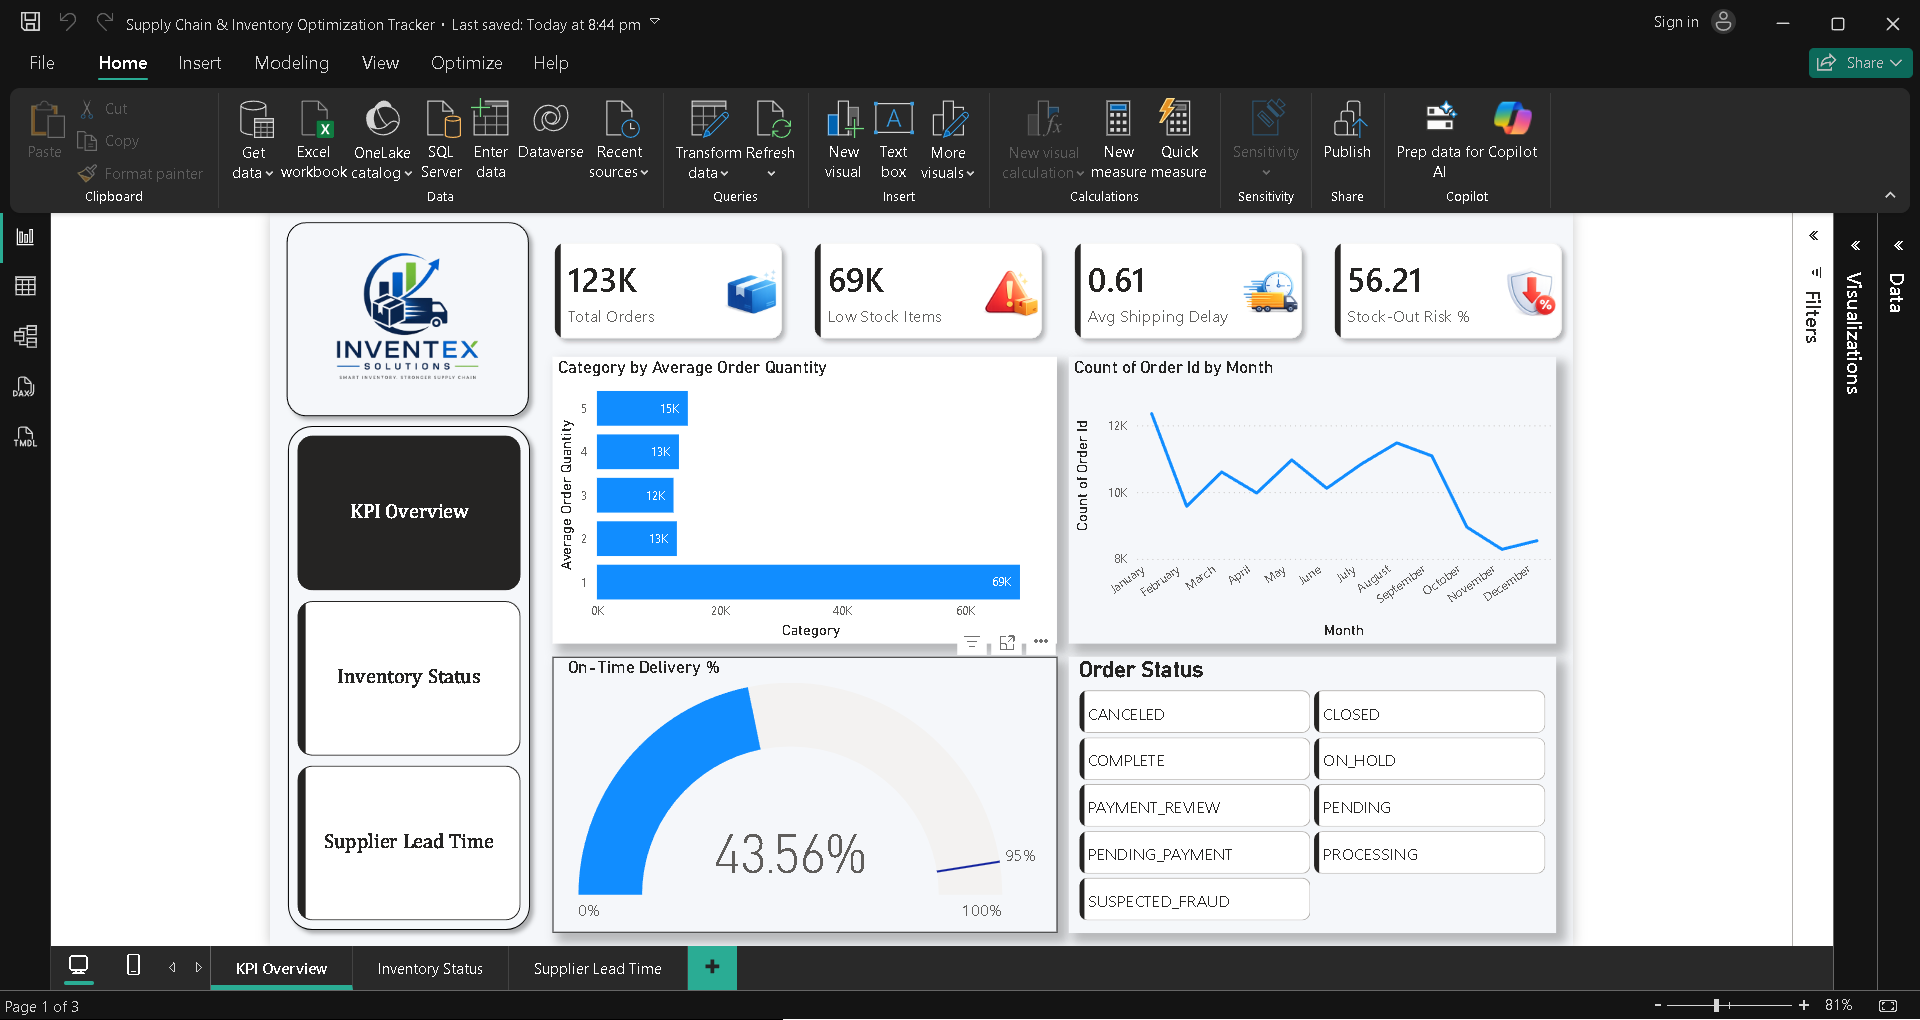

Layout of this report page (visuals, bound fields, positions):
{"tool":"powerbi","page":{"name":"KPI Overview","canvas":[1280,720],"ordinal":0},"visuals":[{"type":"cardVisual","fields":{"Data":["supply_chain_db supply_chain_data.Total Orders","supply_chain_db supply_chain_data.Low Stock Items","supply_chain_db supply_chain_data.Avg Shipping Delay","supply_chain_db supply_chain_data.Stock-Out Risk %"]},"box":[262.9,12.9,1017.1,128.6],"z":0},{"type":"barChart","fields":{"Y":["CountNonNull(supply_chain_db supply_chain_data.Category Name)"],"Category":["supply_chain_db supply_chain_data.Order Item Quantity"]},"box":[277.5,141.2,495,281.2],"z":1000},{"type":"shape","box":[8.6,200,255.7,512.9],"z":2000},{"type":"pageNavigator","box":[27,219,219,476],"z":3000},{"type":"shape","box":[7.1,0,255.7,208.6],"z":4000},{"type":"image","box":[23.3,16.7,222.7,174],"z":5000},{"type":"lineChart","fields":{"Category":["supply_chain_db supply_chain_data.order date (DateOrders).Variation.Date Hierarchy.Month"],"Y":["CountNonNull(supply_chain_db supply_chain_data.Order Id)"]},"box":[784.3,141.4,478.6,281.4],"z":6000},{"type":"gauge","fields":{"Y":["supply_chain_db supply_chain_data.On-Time Delivery %"]},"box":[277.5,435,495,271.2],"z":7000},{"type":"advancedSlicerVisual","fields":{"Values":["supply_chain_db supply_chain_data.Order Status"]},"box":[783.8,435,478.8,271.2],"z":8000}]}

Visuals, with their boxes on the page's 1280x720 design canvas (x1, y1, x2, y2). These are canvas units, not pixel positions in the 1920x1020 screenshot, which may show the page scaled, cropped or inside an application window:
cardVisual - supply_chain_db supply_chain_data.Total Orders x supply_chain_db supply_chain_data.Low Stock Items: rect(263, 13, 1280, 142)
barChart - CountNonNull(supply_chain_db supply_chain_data.Category Name) x supply_chain_db supply_chain_data.Order Item Quantity: rect(278, 141, 772, 422)
shape: rect(9, 200, 264, 713)
pageNavigator: rect(27, 219, 246, 695)
shape: rect(7, 0, 263, 209)
image: rect(23, 17, 246, 191)
lineChart - supply_chain_db supply_chain_data.order date (DateOrders).Variation.Date Hierarchy.Month x CountNonNull(supply_chain_db supply_chain_data.Order Id): rect(784, 141, 1263, 423)
gauge - supply_chain_db supply_chain_data.On-Time Delivery %: rect(278, 435, 772, 706)
advancedSlicerVisual - supply_chain_db supply_chain_data.Order Status: rect(784, 435, 1263, 706)
